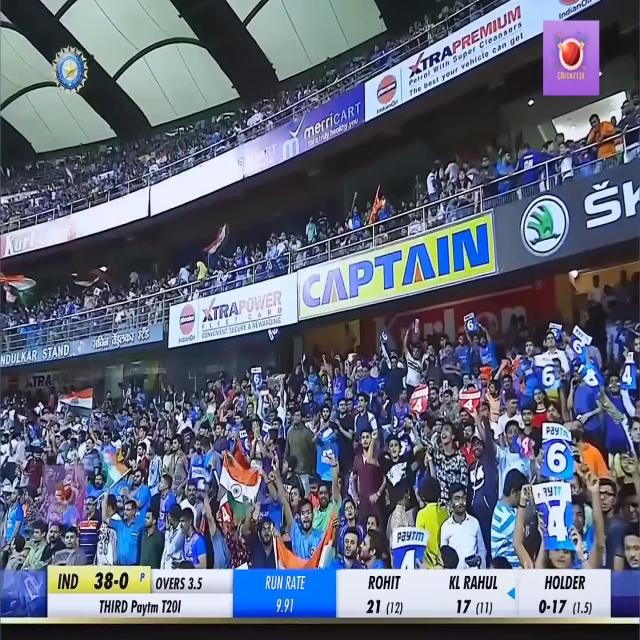fully_visible: (384, 520, 434, 552), (541, 414, 585, 447)
partially_visible: (534, 478, 570, 498)
